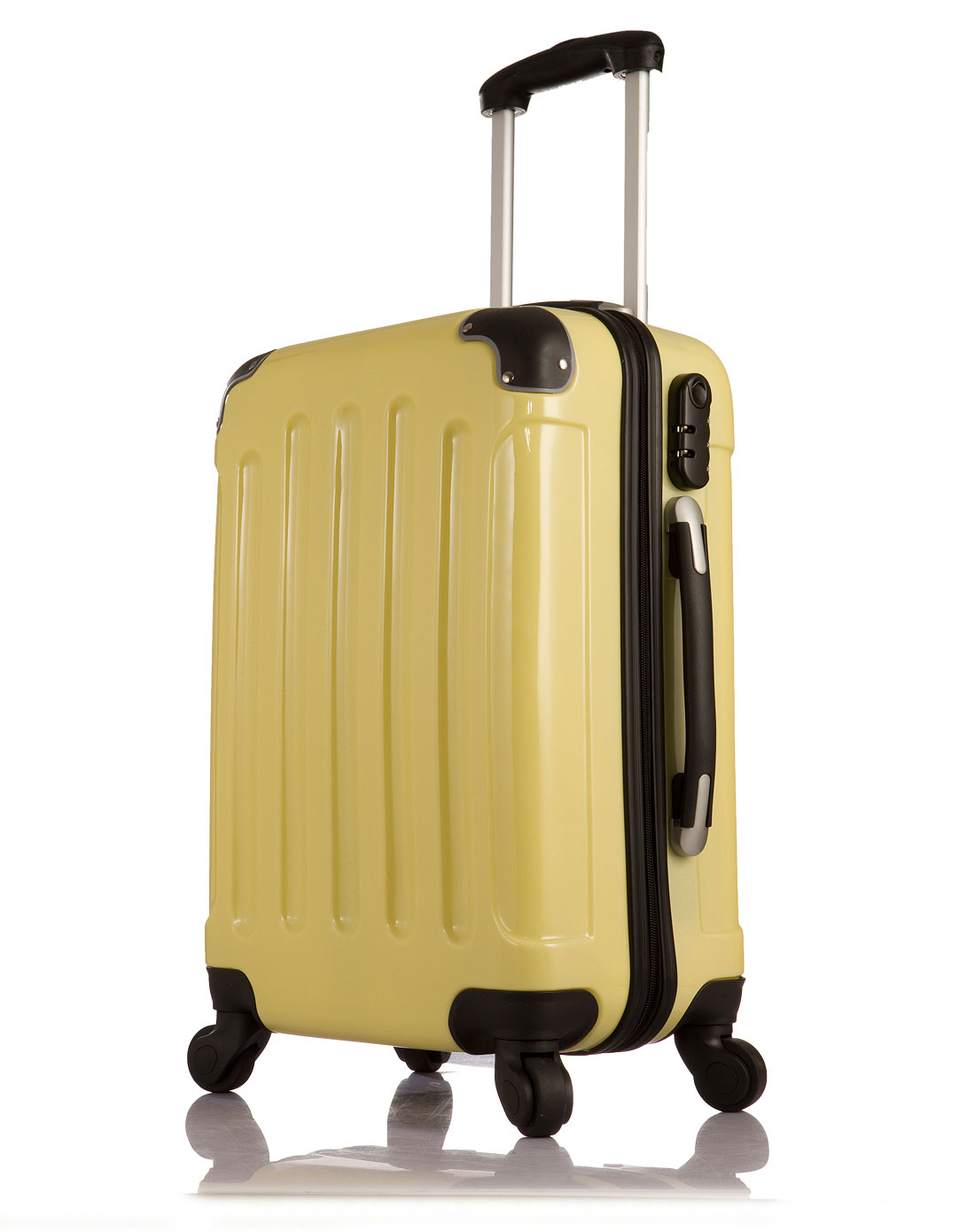box: (203, 300, 744, 1054)
handle: (666, 495, 716, 858)
lock: (668, 372, 711, 492)
wheel: (494, 1060, 573, 1138), (693, 1037, 768, 1112), (186, 1025, 257, 1093)
